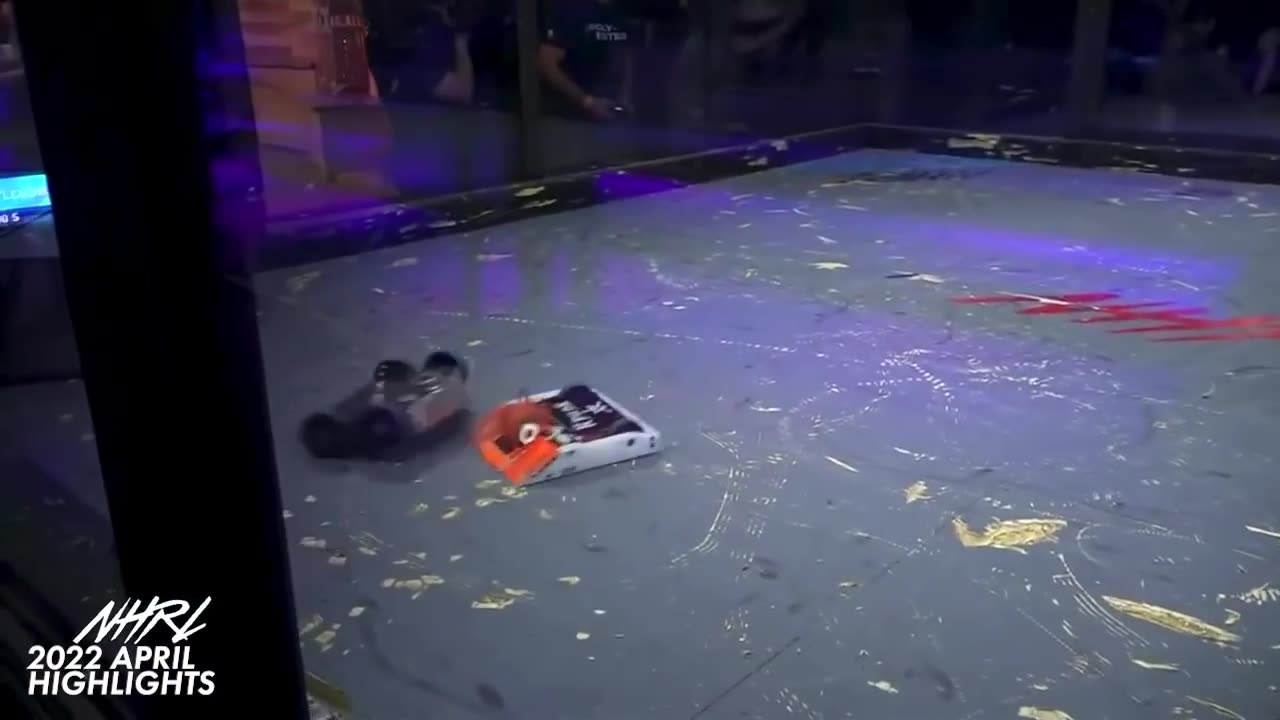combatbot: (300, 350, 473, 460), (479, 383, 663, 486)
